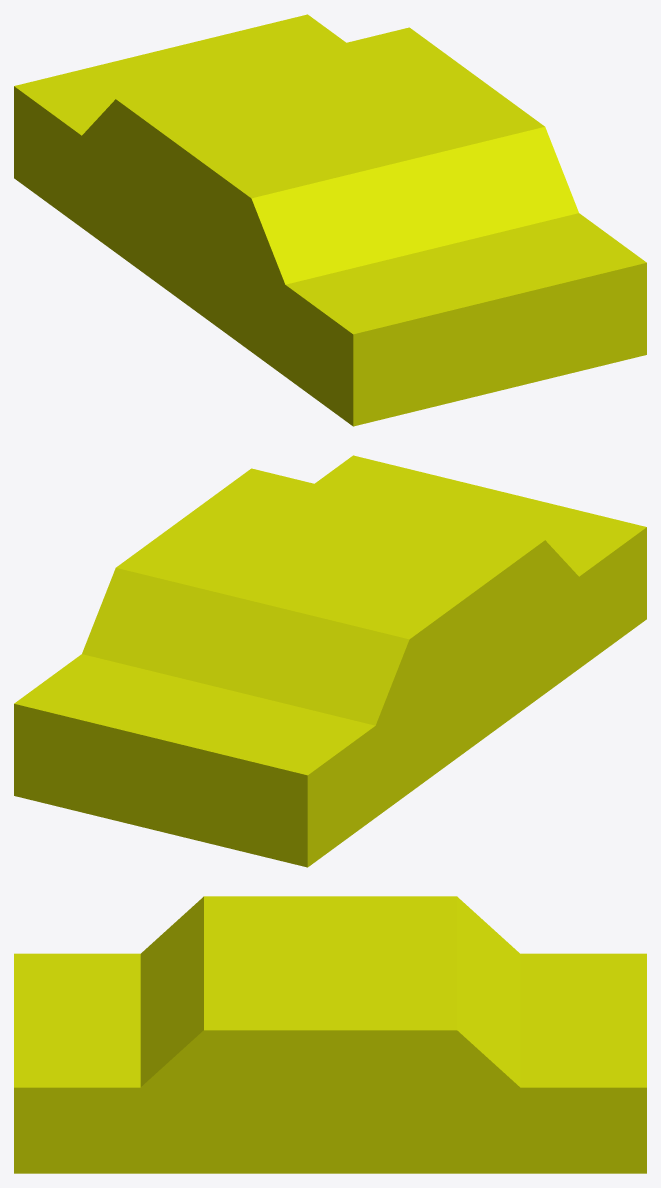
File: taxi.fbx
3 renders of one model, top to bottom at view 1: azimuth 30°, elevation 25°; view 2: azimuth 150°, elevation 25°; view 3: azimuth 270°, elevation 25°, orthographic. The views are drawn at different scales.
Visible parts, largest first — view 1: Cube; view 2: Cube; view 3: Cube.
Boxes of the visible parts, left/top/right/bottom form: Cube: left=14, top=14, right=646, bottom=426; Cube: left=14, top=455, right=646, bottom=867; Cube: left=14, top=896, right=646, bottom=1173.
Bounding box in the file's own units: 500 × 250 × 1000.
